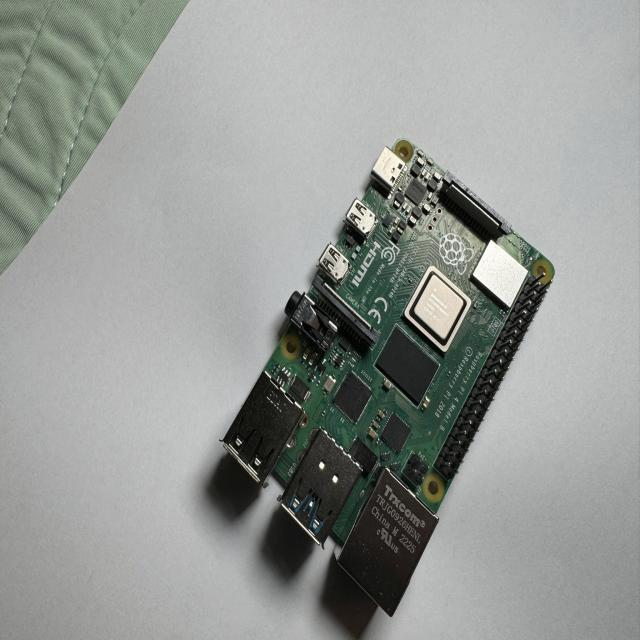CPU: (403, 268, 471, 353)
Ethernet: (326, 464, 444, 619)
GPIO: (430, 274, 551, 483)
RAM: (378, 321, 444, 410)
Raspberry: (220, 140, 555, 620)
micro-hdmi: (342, 197, 378, 244), (317, 241, 353, 287)
